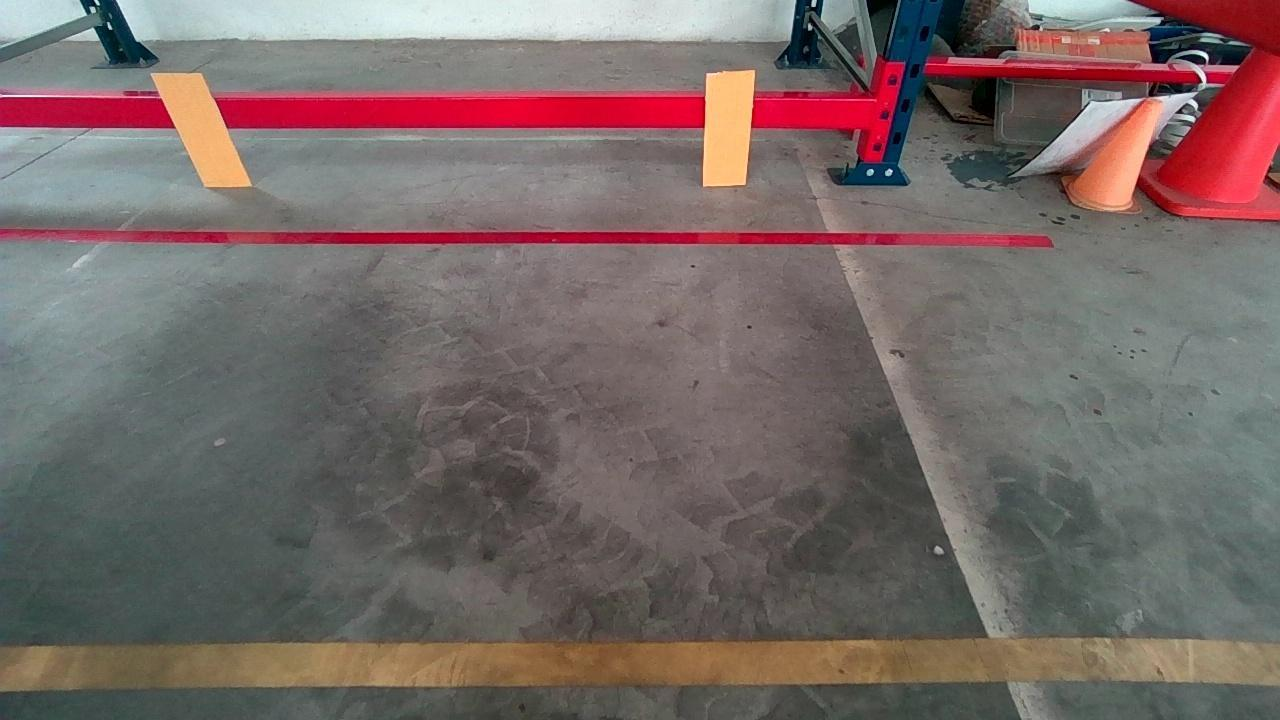orange_strip: (151, 72, 249, 184), (704, 70, 754, 185)
red_line: (2, 226, 1057, 250)
